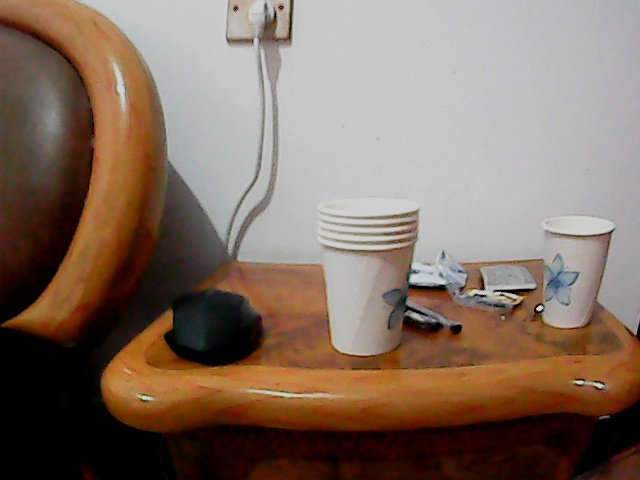cup: (317, 196, 417, 357)
mouse: (160, 284, 264, 367)
